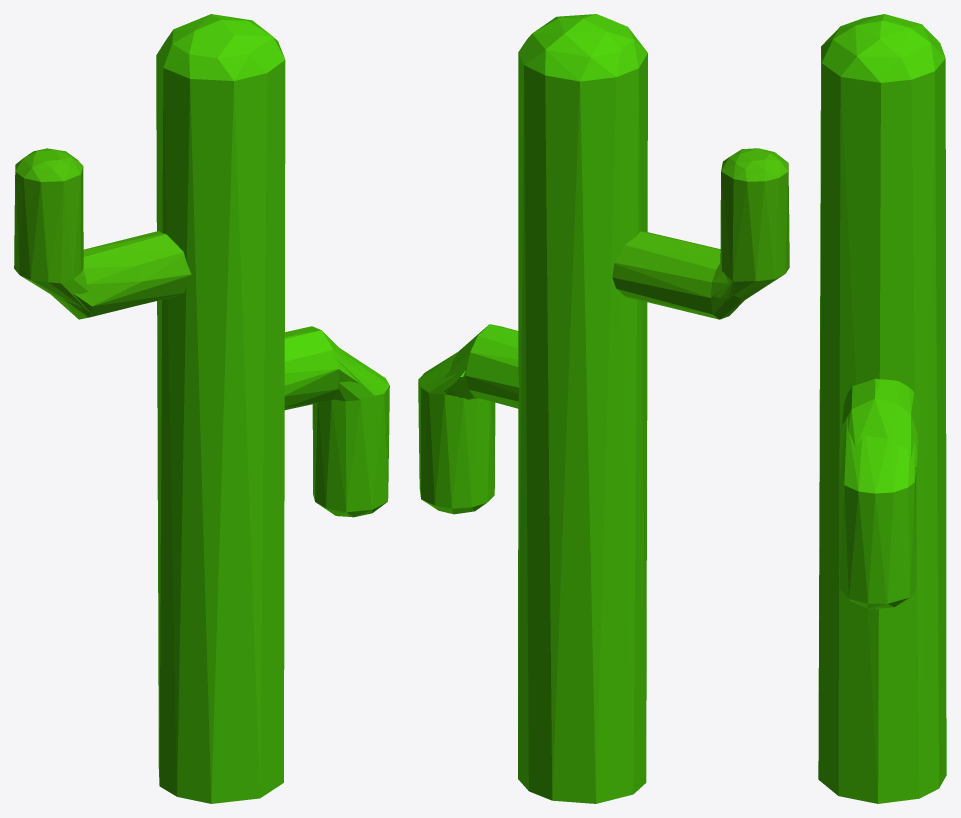
File: Cactus 1.fbx
3 renders of one model, left to right at view 1: azimuth 30°, elevation 25°; view 2: azimuth 150°, elevation 25°; view 3: azimuth 270°, elevation 25°, orthographic.
Visible parts, largest first — view 1: Cylinder, Cylinder.001, Cylinder.002; view 2: Cylinder, Cylinder.001, Cylinder.002; view 3: Cylinder, Cylinder.002.
Boxes of the visible parts, x1=… form: Cylinder: x1=156, y1=14, x2=285, y2=803; Cylinder.001: x1=14, y1=148, x2=191, y2=319; Cylinder.002: x1=284, y1=326, x2=389, y2=517; Cylinder: x1=518, y1=14, x2=647, y2=803; Cylinder.001: x1=612, y1=148, x2=789, y2=319; Cylinder.002: x1=418, y1=324, x2=519, y2=514; Cylinder: x1=818, y1=14, x2=946, y2=803; Cylinder.002: x1=839, y1=378, x2=919, y2=608.
Size of the model in its own units: 321 by 639 by 98.21.
